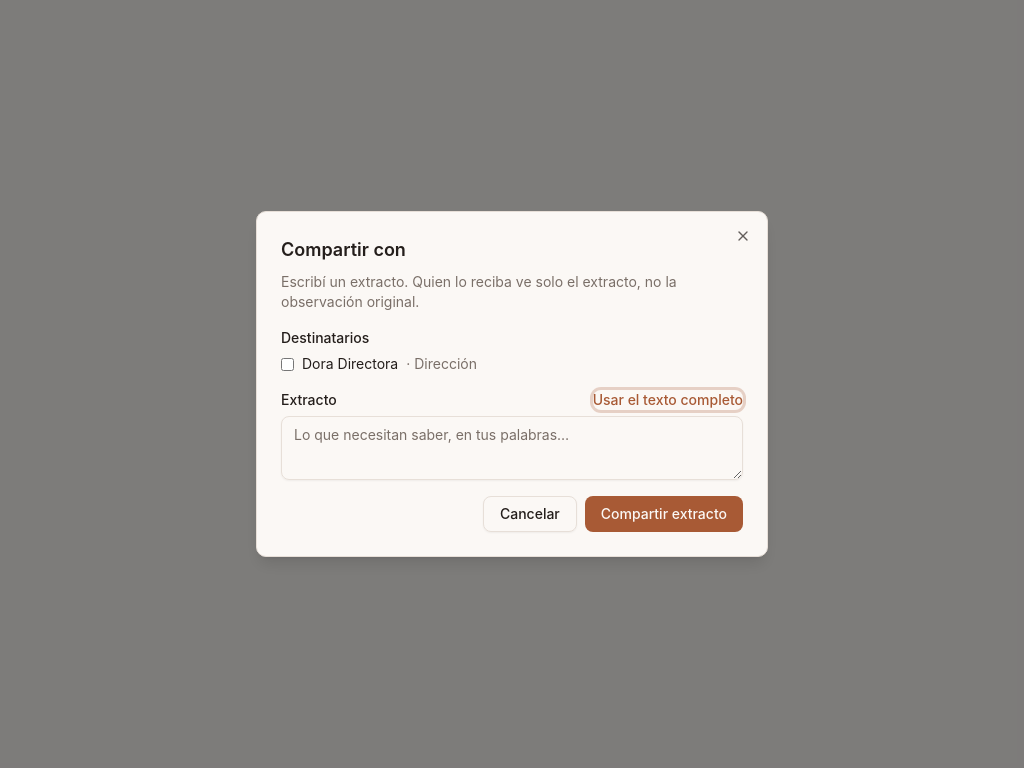
Test case: ShareCommentDialog › shows an error when the server rejects the share
The image size is (1024, 768).
Click the checkbox labelled "Dora Directora · Dirección" at (288, 364), box [281, 358, 294, 370]
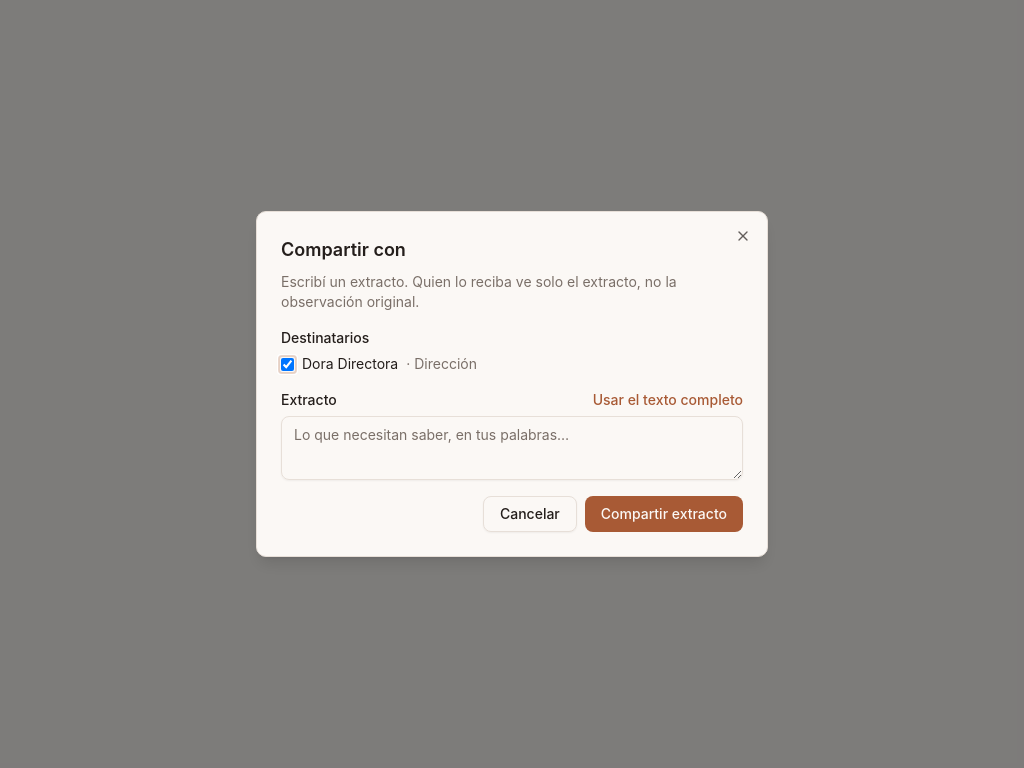
Type "Extracto" into the text box labelled "Extracto" at (512, 448), box [281, 416, 743, 480]
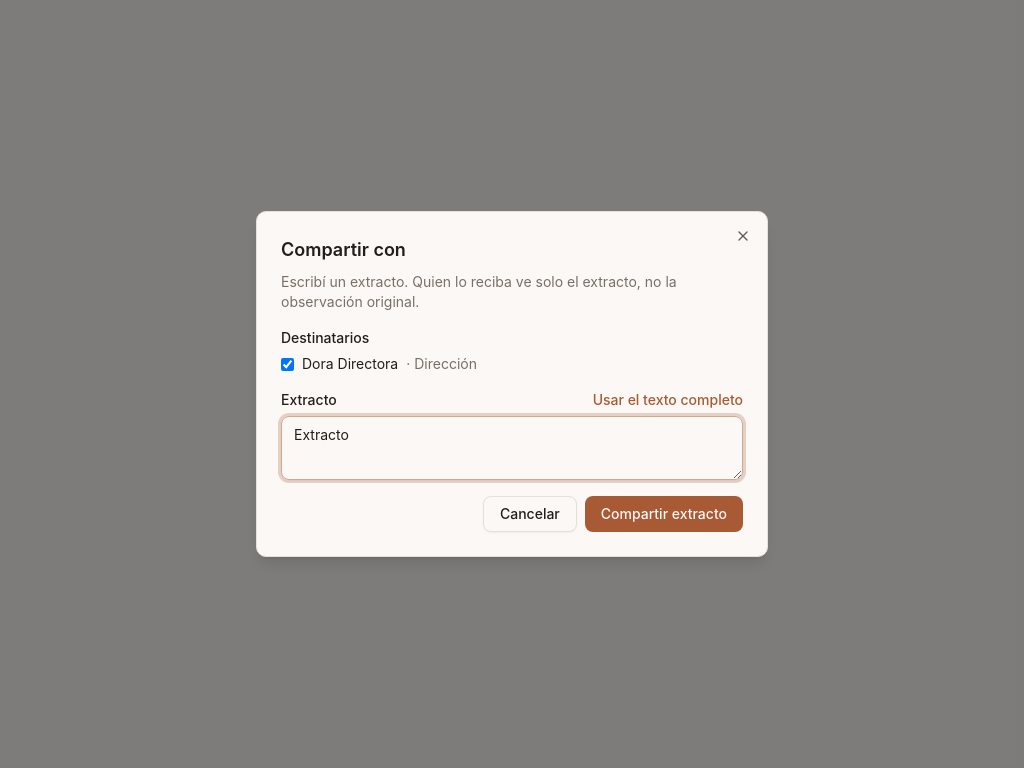
Click the button "Compartir extracto" at (664, 514), box [585, 496, 743, 532]
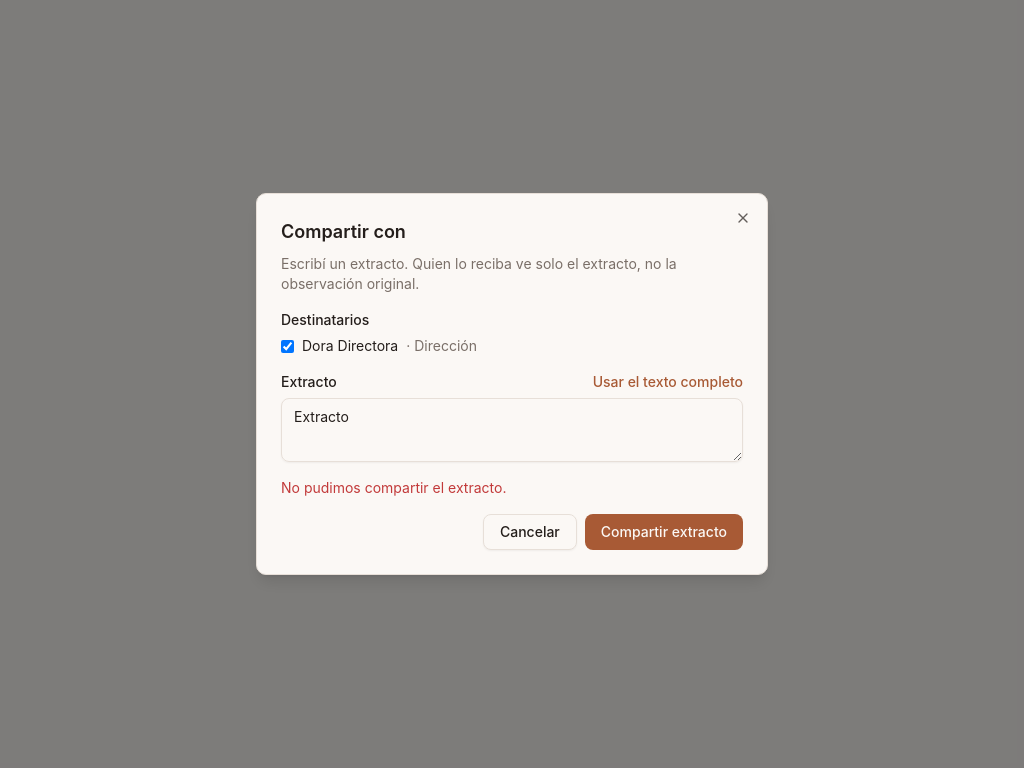
Check: the text "No pudimos compartir el extracto." is shown, box [281, 479, 506, 496]
